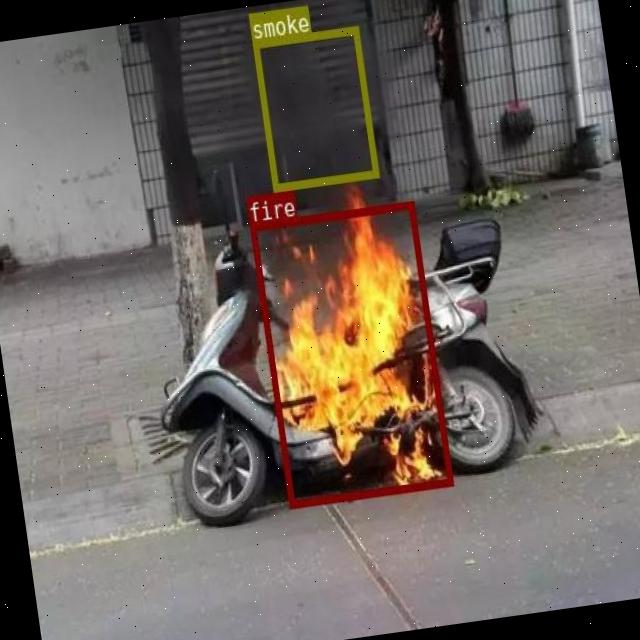fire: (250, 200, 452, 508)
smoke: (252, 26, 378, 190)
